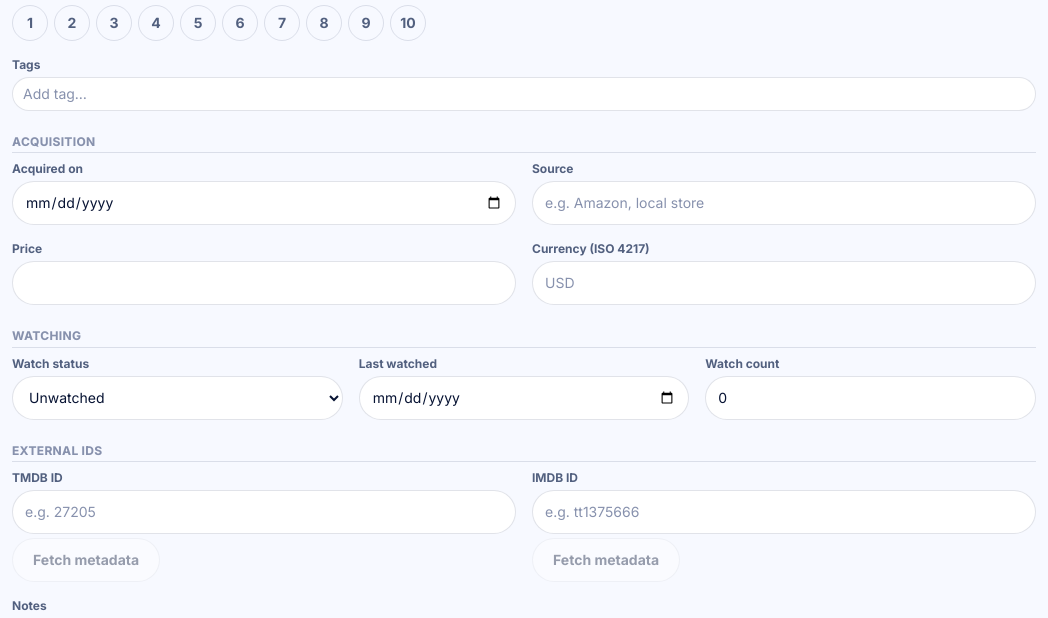
Scenario: MovieForm — Fetch metadata by TMDB ID › IMDB Fetch shows not-found when the resolver returns nothing
(page scrolled)
Type "tt9999999" into the field with placeholder "e.g. tt1375666" at [784, 512], box [532,490,1036,534]
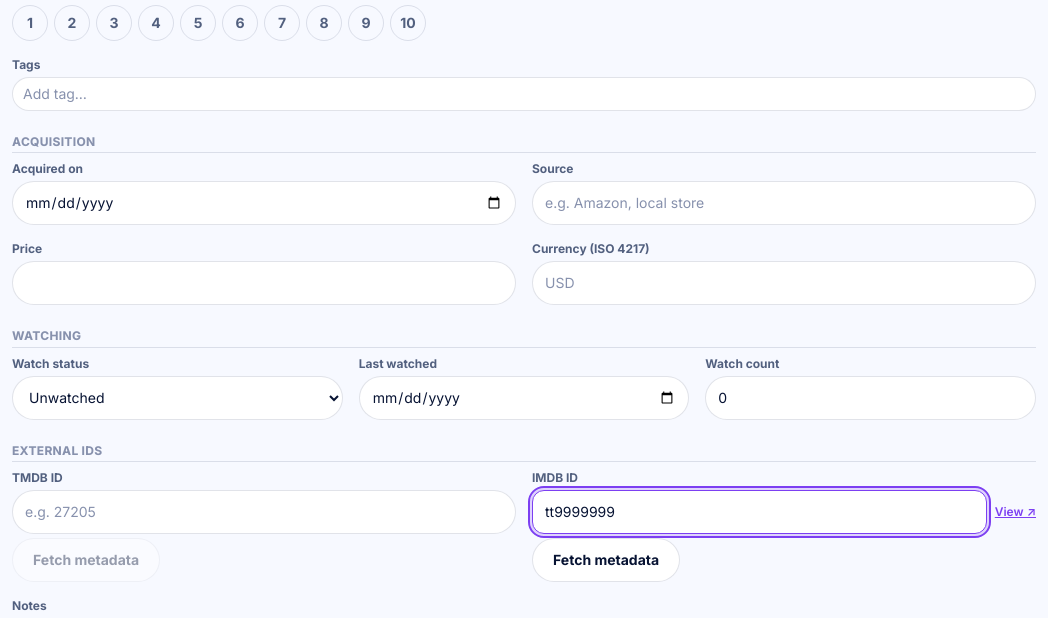
Click the button with aria-label "fetch metadata by imdb id" at [606, 560], box [532,538,680,582]
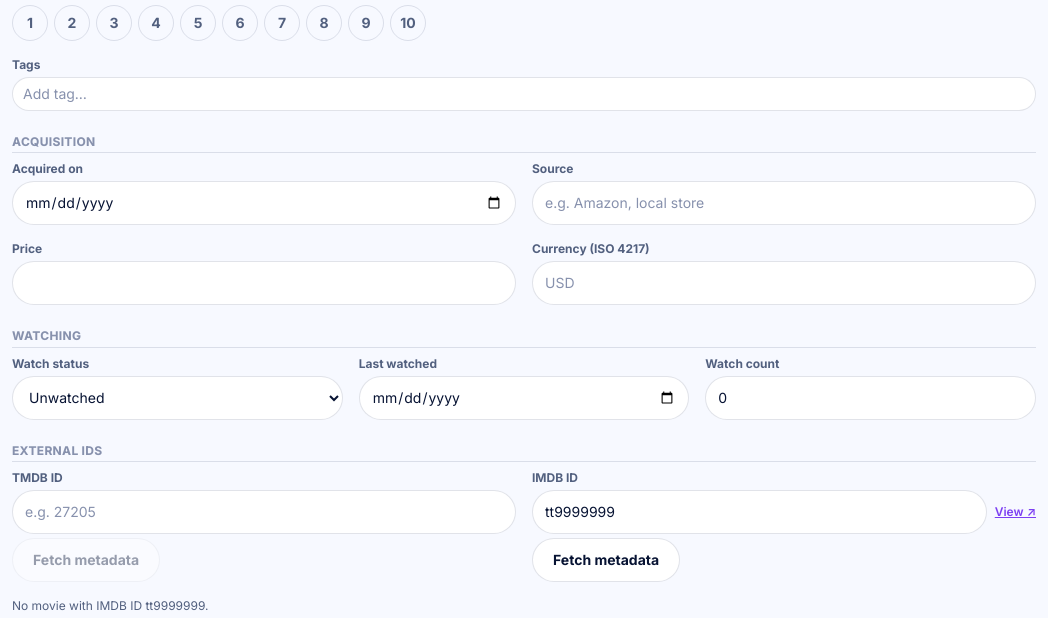
Expected: the text "No movie with IMDB ID tt9999999." is shown, [12,598,208,613]
